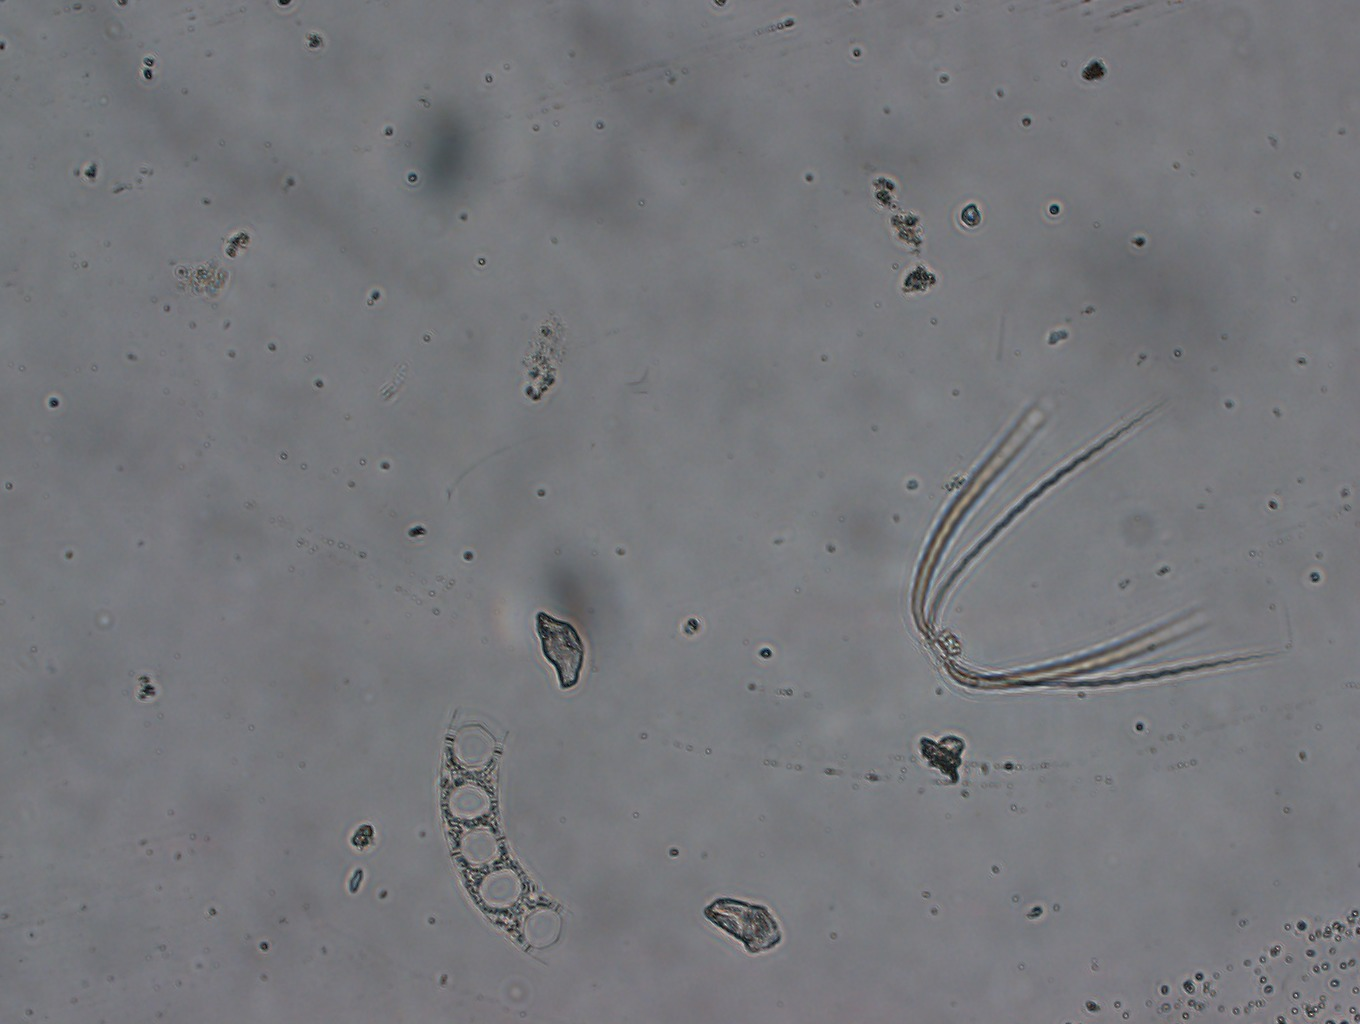chaetoceros: (908, 394, 1289, 695)
eucampia: (436, 707, 574, 963)
